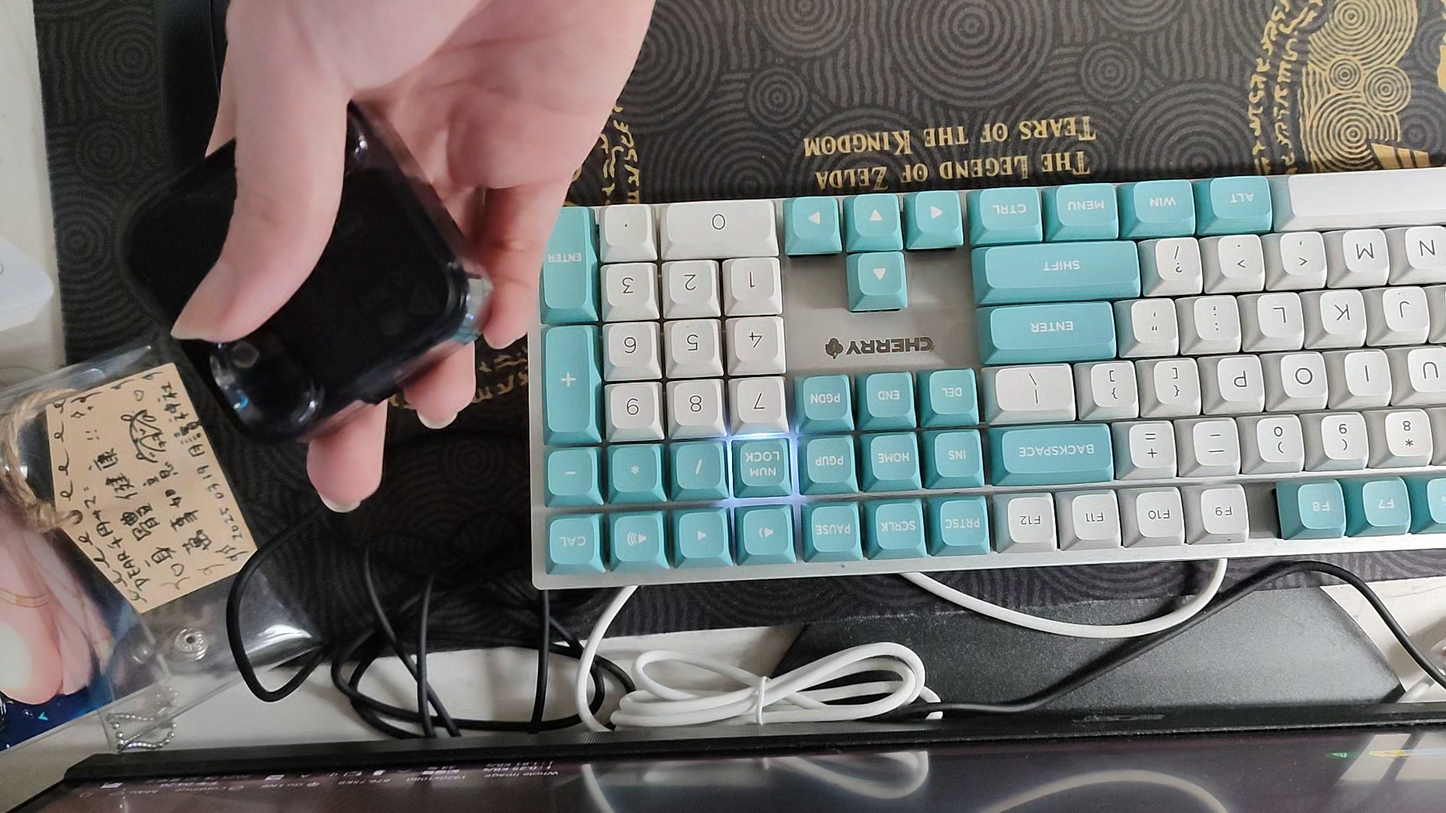Wireless_earphone: (123, 100, 495, 449)
